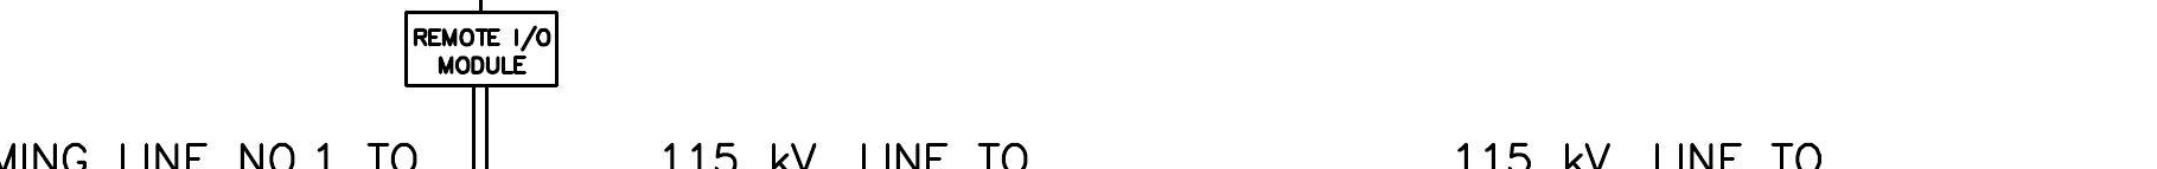remote_io_module: (403, 11, 559, 88)
